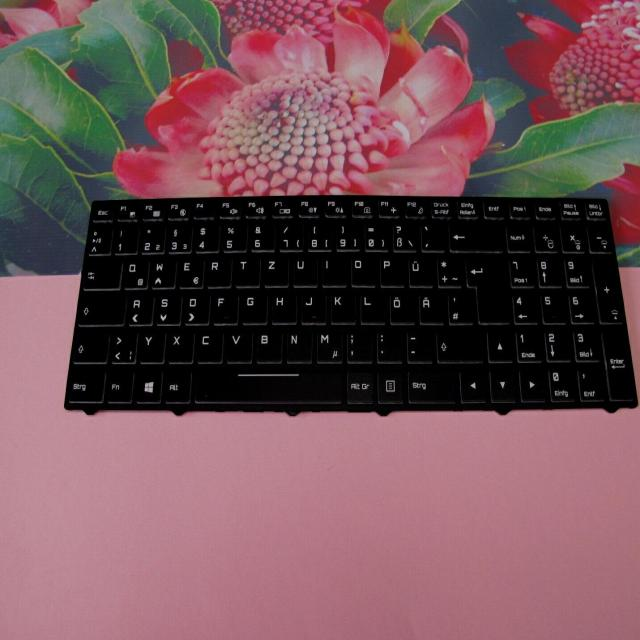0: (362, 218, 387, 251)
1: (111, 222, 137, 253)
2: (138, 221, 164, 252)
3: (165, 221, 191, 252)
4: (192, 219, 219, 251)
5: (221, 220, 246, 251)
6: (249, 220, 274, 250)
7: (277, 219, 302, 251)
8: (306, 219, 331, 251)
9: (333, 219, 359, 250)
a: (126, 291, 152, 324)
accent: (419, 219, 444, 251)
ae: (416, 290, 443, 323)
alt-left: (163, 367, 191, 402)
altgr-right: (344, 367, 372, 403)
b: (254, 327, 281, 362)
c: (195, 327, 223, 362)
caret: (85, 220, 112, 253)
comma: (344, 328, 372, 362)
d: (183, 291, 209, 323)
del: (446, 219, 503, 250)
e: (176, 253, 203, 287)
enter: (463, 254, 508, 322)
f: (211, 291, 237, 323)
g: (240, 291, 266, 323)
h: (269, 291, 296, 323)
hash: (445, 291, 472, 323)
i: (320, 254, 346, 286)
j: (298, 289, 325, 323)
k: (328, 290, 355, 323)
keyboard: (59, 190, 640, 417)
l: (358, 290, 385, 323)
less: (109, 328, 137, 362)
m: (314, 328, 341, 362)
minus: (403, 328, 431, 362)
n: (284, 328, 311, 362)
o: (348, 254, 375, 286)
oe: (387, 290, 413, 323)
p: (377, 255, 404, 287)
plus: (435, 254, 460, 286)
point: (374, 328, 402, 362)
q: (120, 256, 148, 287)
r: (205, 255, 231, 287)
s: (155, 291, 181, 324)
shift-left: (70, 328, 108, 362)
shift-lock: (76, 290, 125, 324)
shift-right: (433, 327, 481, 361)
space: (193, 367, 341, 403)
ss: (389, 219, 415, 250)
strg-left: (63, 365, 104, 402)
strg-right: (404, 366, 455, 402)
t: (233, 254, 259, 286)
tab: (81, 254, 120, 287)
u: (290, 254, 317, 286)
ue: (406, 254, 432, 287)
v: (225, 328, 252, 362)
w: (148, 254, 175, 287)
x: (166, 328, 193, 362)
y: (138, 328, 165, 362)
z: (262, 254, 288, 286)
